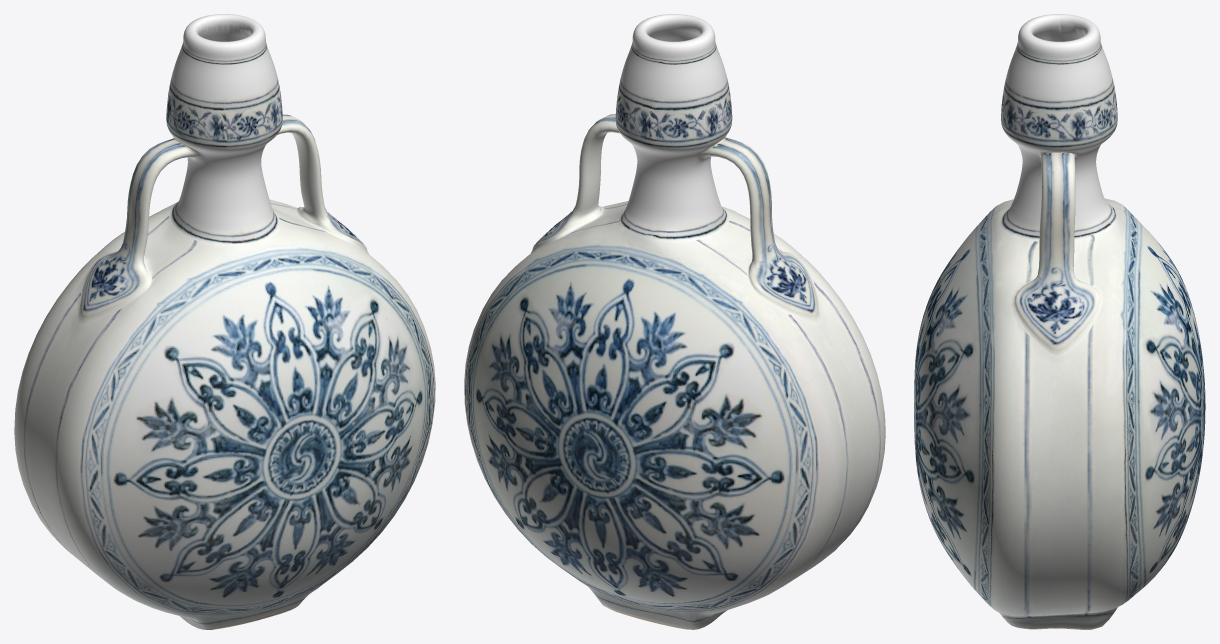
3 views of the same model, side by side, from view 1: azimuth 30°, elevation 25°; view 2: azimuth 150°, elevation 25°; view 3: azimuth 270°, elevation 25° (orthographic).
Visible parts, largest first — view 1: 文物034ok; view 2: 文物034ok; view 3: 文物034ok.
Part boxes in pixels (box(x1,y1,x2,y2)): 文物034ok: box(14, 14, 435, 629); 文物034ok: box(464, 14, 885, 629); 文物034ok: box(914, 14, 1205, 629).
Bounding box in the file's own units: 4.09 × 6.03 × 2.75.
